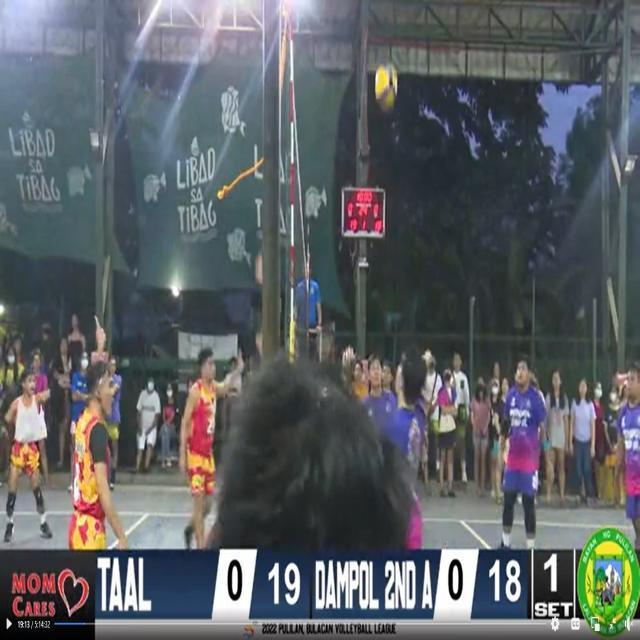volleyball: (374, 62, 398, 114)
